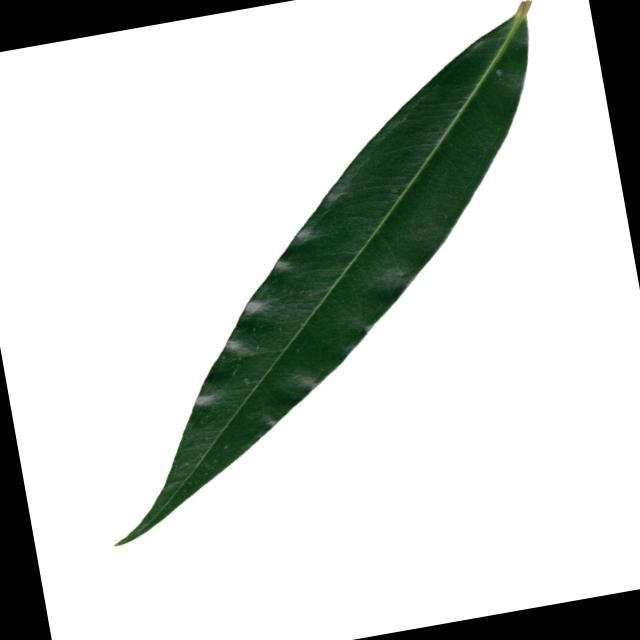Medicinal-Rose Apple: (33, 0, 614, 548)
